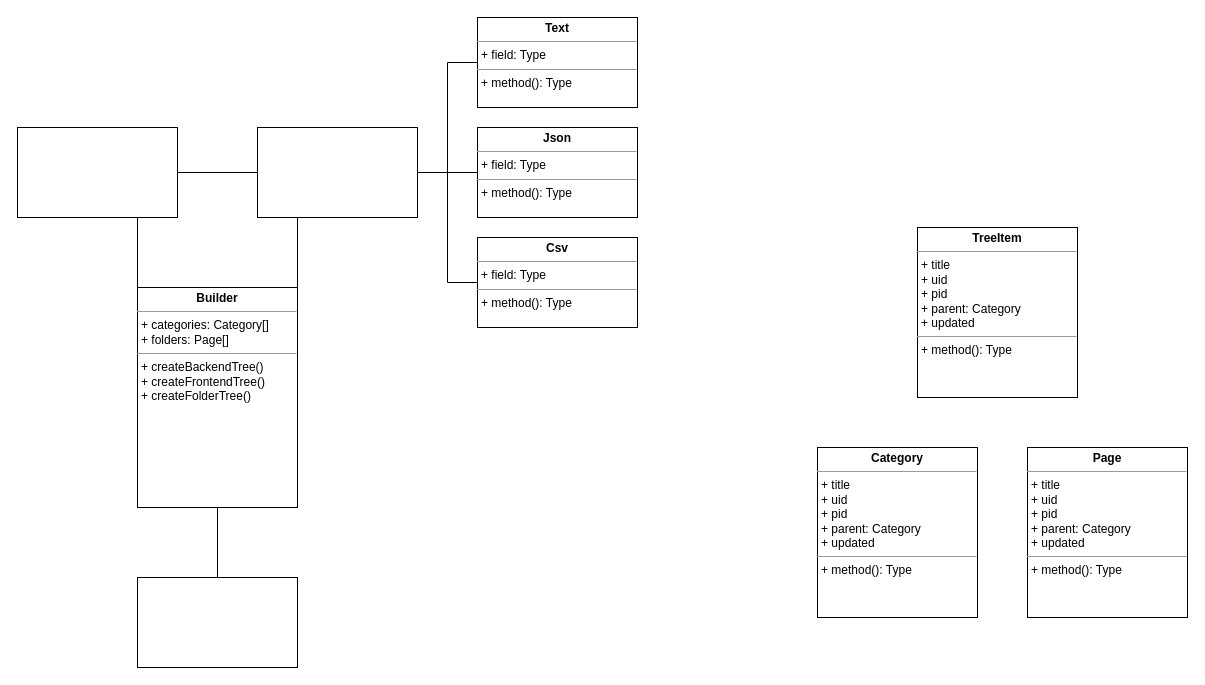
Some shapes in this 1205 by 685 pixel diagram are drawn without their labels. Here are the shapes that lost their labels. From the top down, the centre of each, then its label:
At point (97, 172): "DBUtility + field: Type + method(): Type".
At point (337, 172): "Importer + field: Type + method(): Type".
At point (217, 622): "Controller + field: Type + method(): Type".
